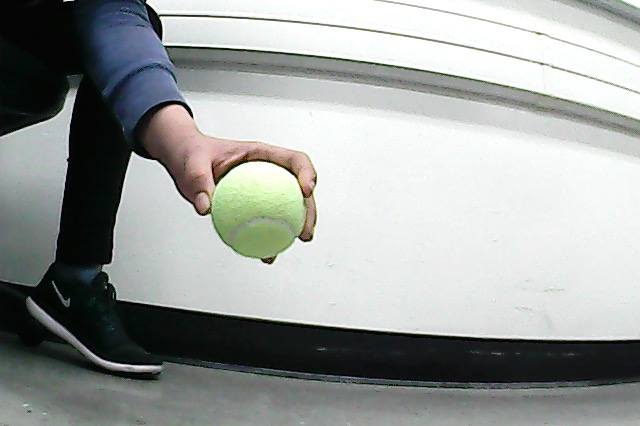ball: (206, 157, 312, 264)
